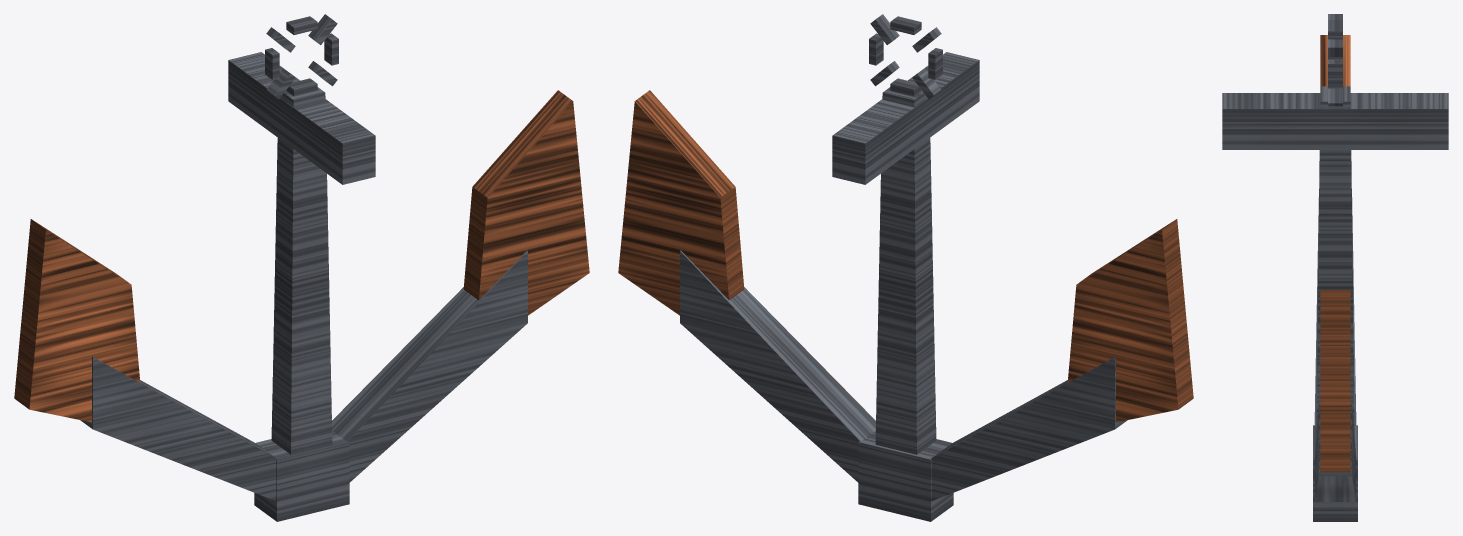
Rendered from anchor.fbx.
3 views of the same model, side by side, from view 1: azimuth 30°, elevation 25°; view 2: azimuth 150°, elevation 25°; view 3: azimuth 270°, elevation 25° (orthographic).
Parts seen in each view (by area): view 1: anchor; view 2: anchor; view 3: anchor.
Part boxes in pixels (box(x1,y1,x2,y2)): anchor: box(14, 14, 589, 521); anchor: box(618, 14, 1193, 521); anchor: box(1222, 14, 1448, 521).
Bounding box in the file's own units: 85 × 70 × 30.
